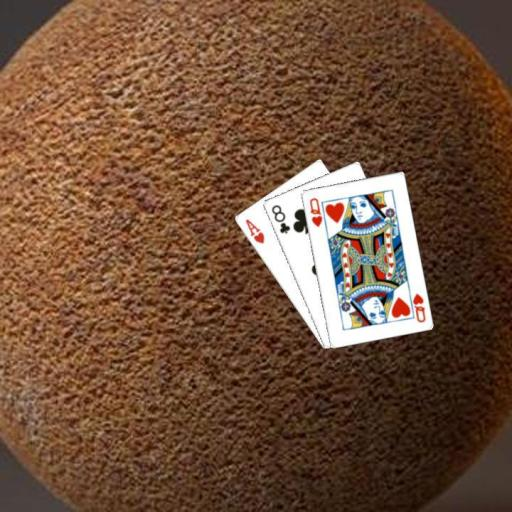8C: (268, 202, 292, 236)
AH: (242, 216, 266, 246)
QH: (405, 287, 427, 324), (306, 194, 324, 228)
